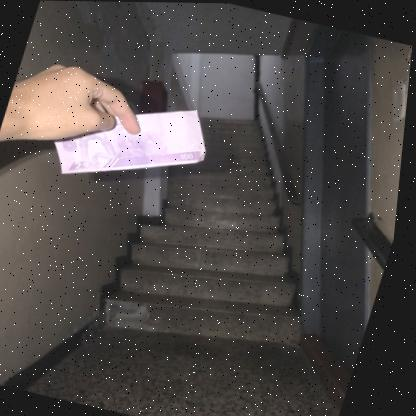one_hundred-back-vef: (43, 79, 223, 204)
